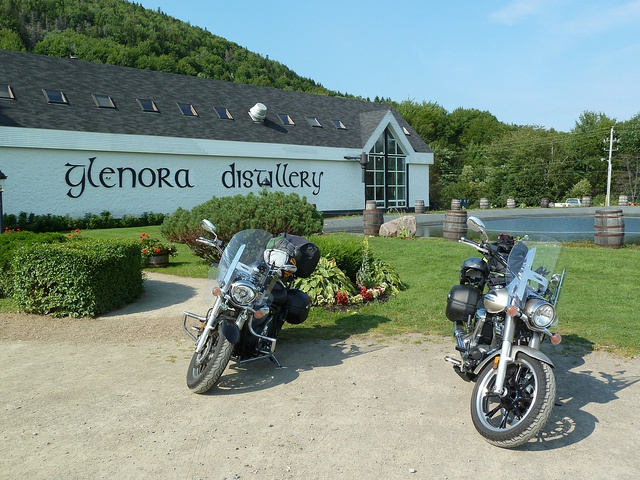non-vehicle: (441, 214, 563, 448), (181, 218, 320, 394)
